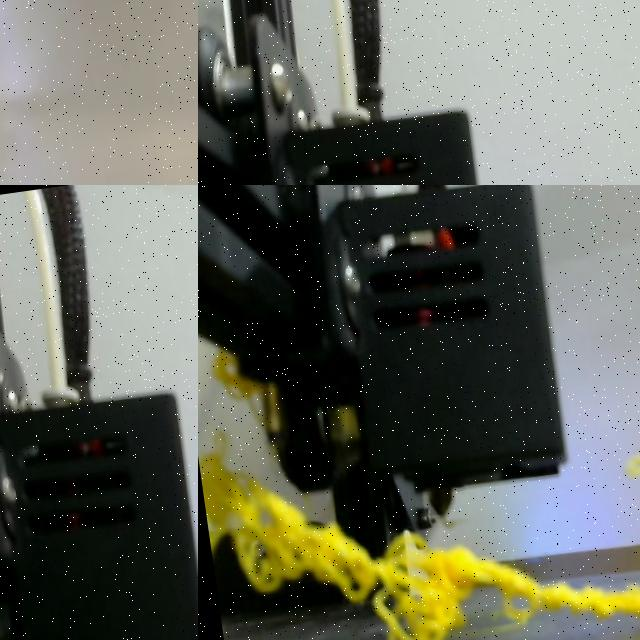spaghetti: (199, 447, 640, 640), (215, 353, 259, 397)
